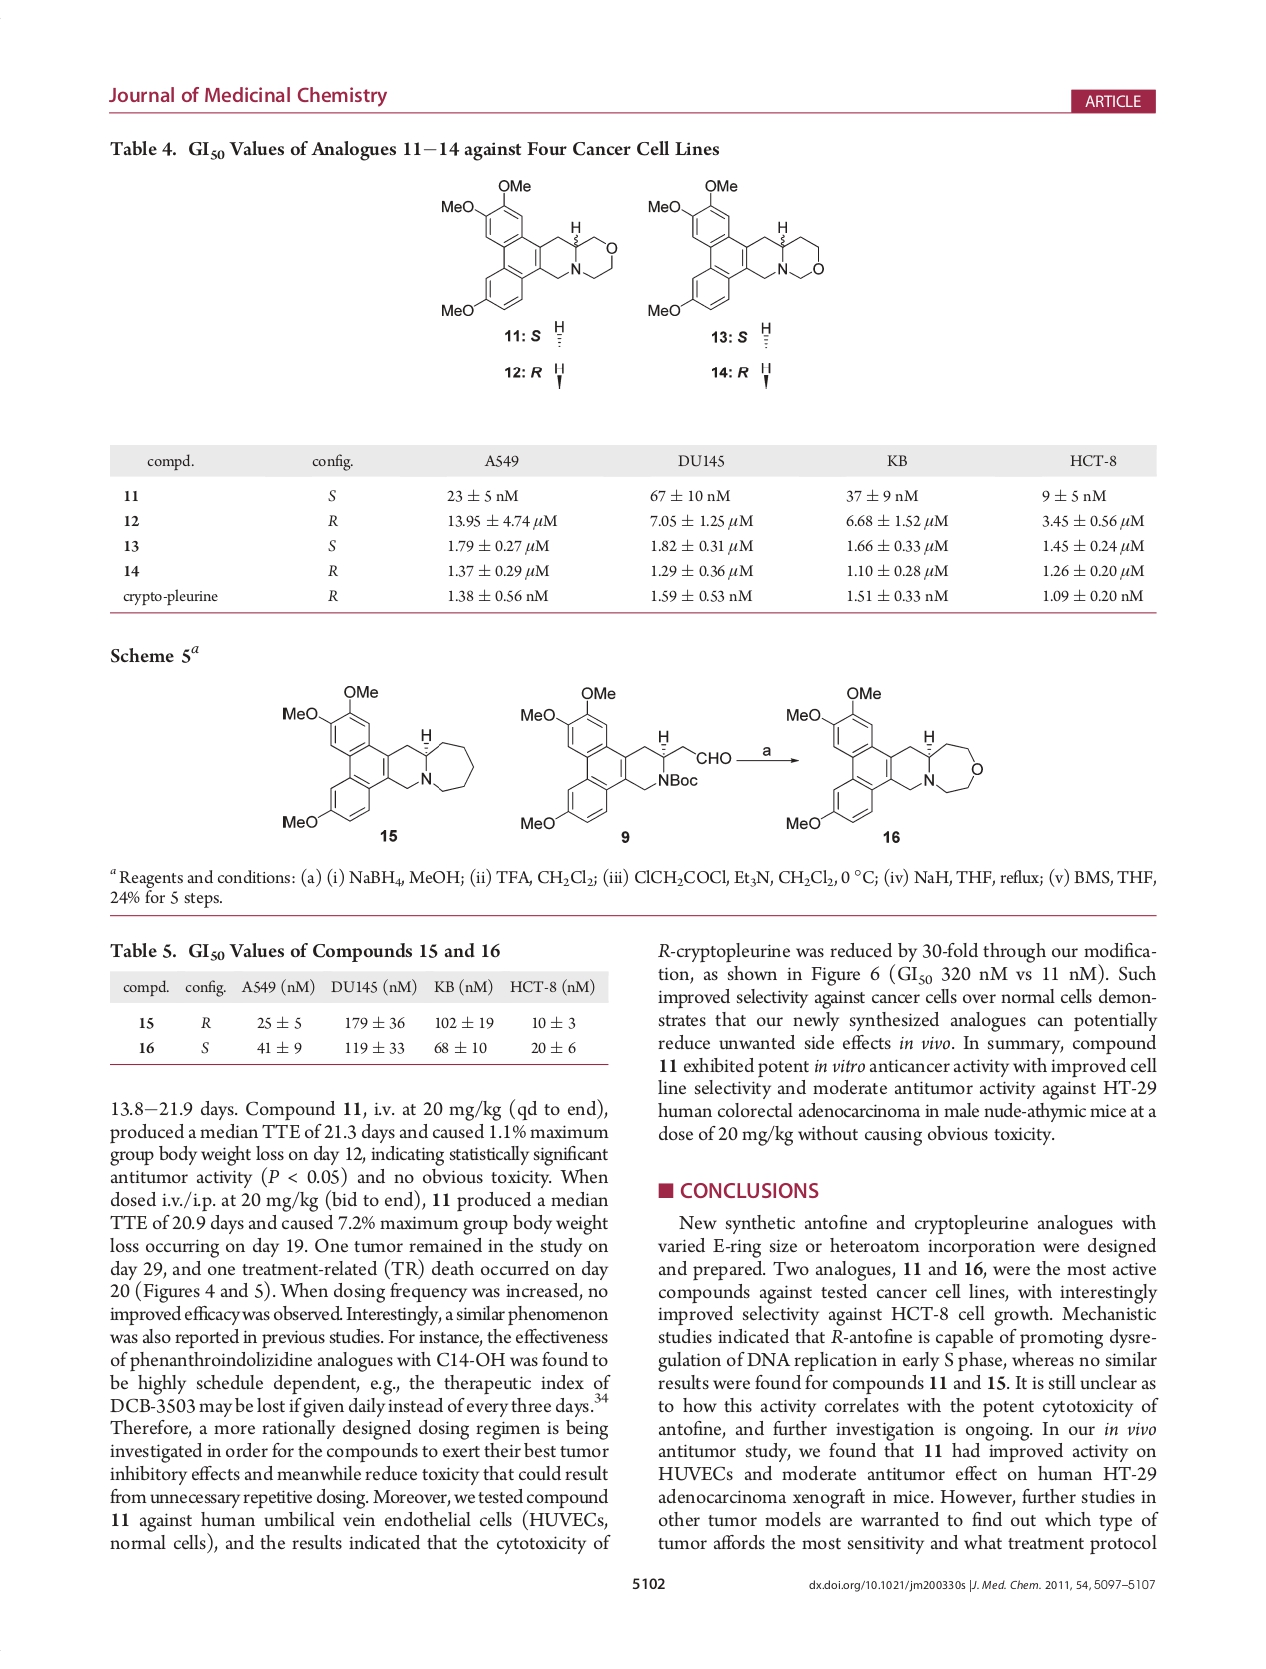exist_molecular: (517, 680, 731, 833), (785, 682, 985, 833), (277, 682, 477, 831), (646, 174, 828, 321), (438, 176, 620, 318)
